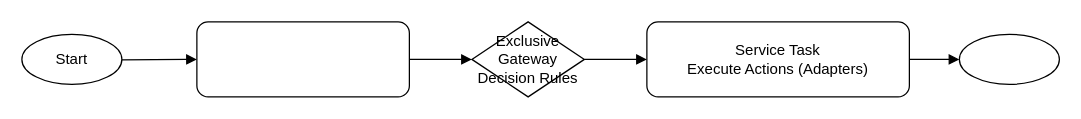
This 1081x119 diagram has some shape labels left out. The centre of each missing label's shape, as x and y in pixels:
End: pixel 1008 58
Service Task Validate + Normalize: pixel 302 59
